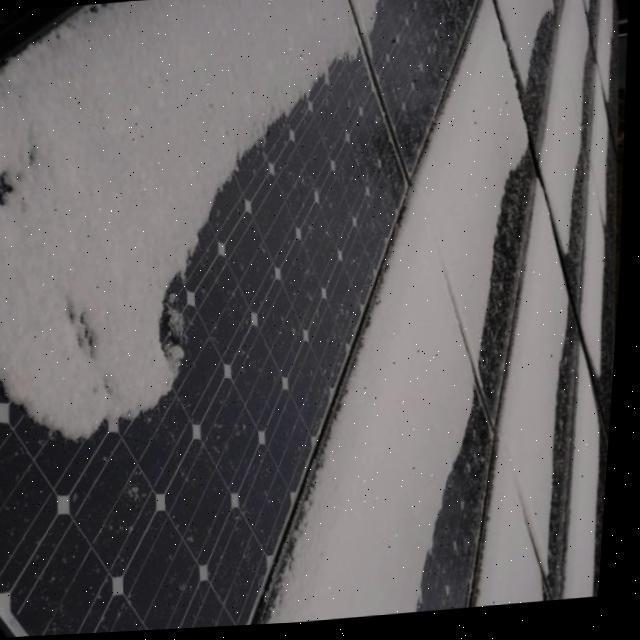Snow: (0, 0, 421, 538), (260, 0, 539, 628), (483, 180, 602, 612), (534, 0, 595, 261), (569, 331, 612, 606), (583, 66, 616, 381), (482, 0, 558, 97), (593, 0, 616, 105)
